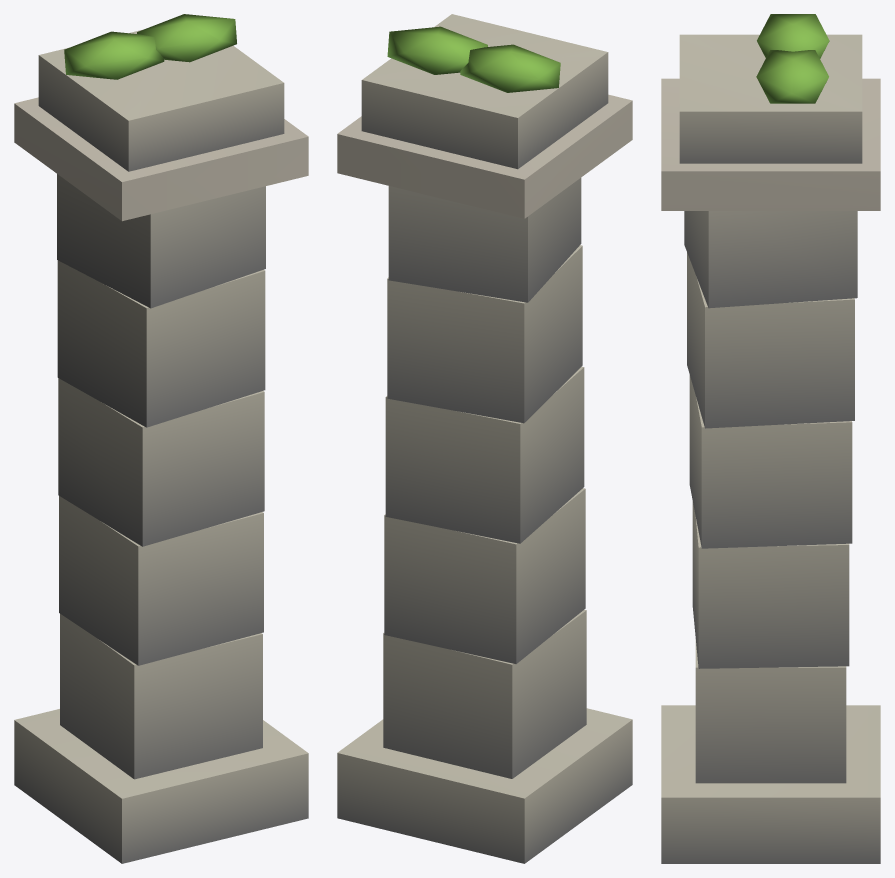
The model's file is ruin_pillar.glb.
3 renders of one model, left to right at view 1: azimuth 30°, elevation 25°; view 2: azimuth 150°, elevation 25°; view 3: azimuth 270°, elevation 25°, orthographic.
Visible parts, largest first — view 1: Pillar; view 2: Pillar; view 3: Pillar.
Part boxes in pixels (bbox=[...]): Pillar: bbox=[14, 14, 308, 863]; Pillar: bbox=[337, 14, 632, 863]; Pillar: bbox=[661, 14, 880, 863].
Size of the model in its own units: 0.9 by 3.52 by 0.9.
